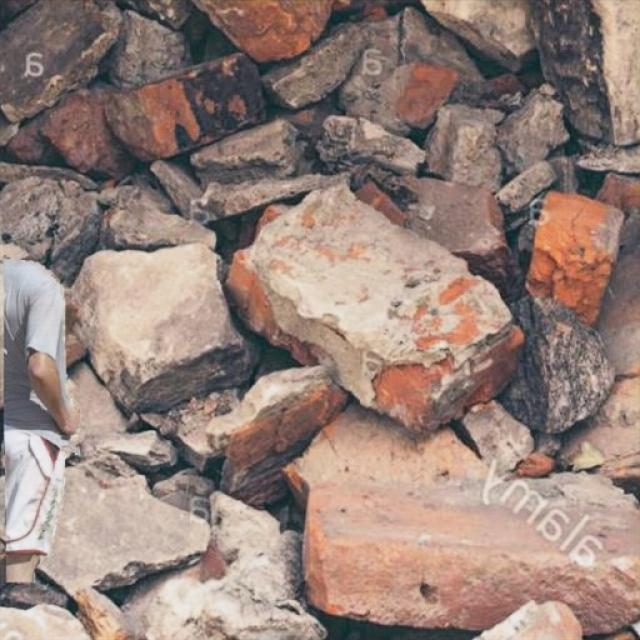Person in Rubble: (3, 258, 78, 582)
